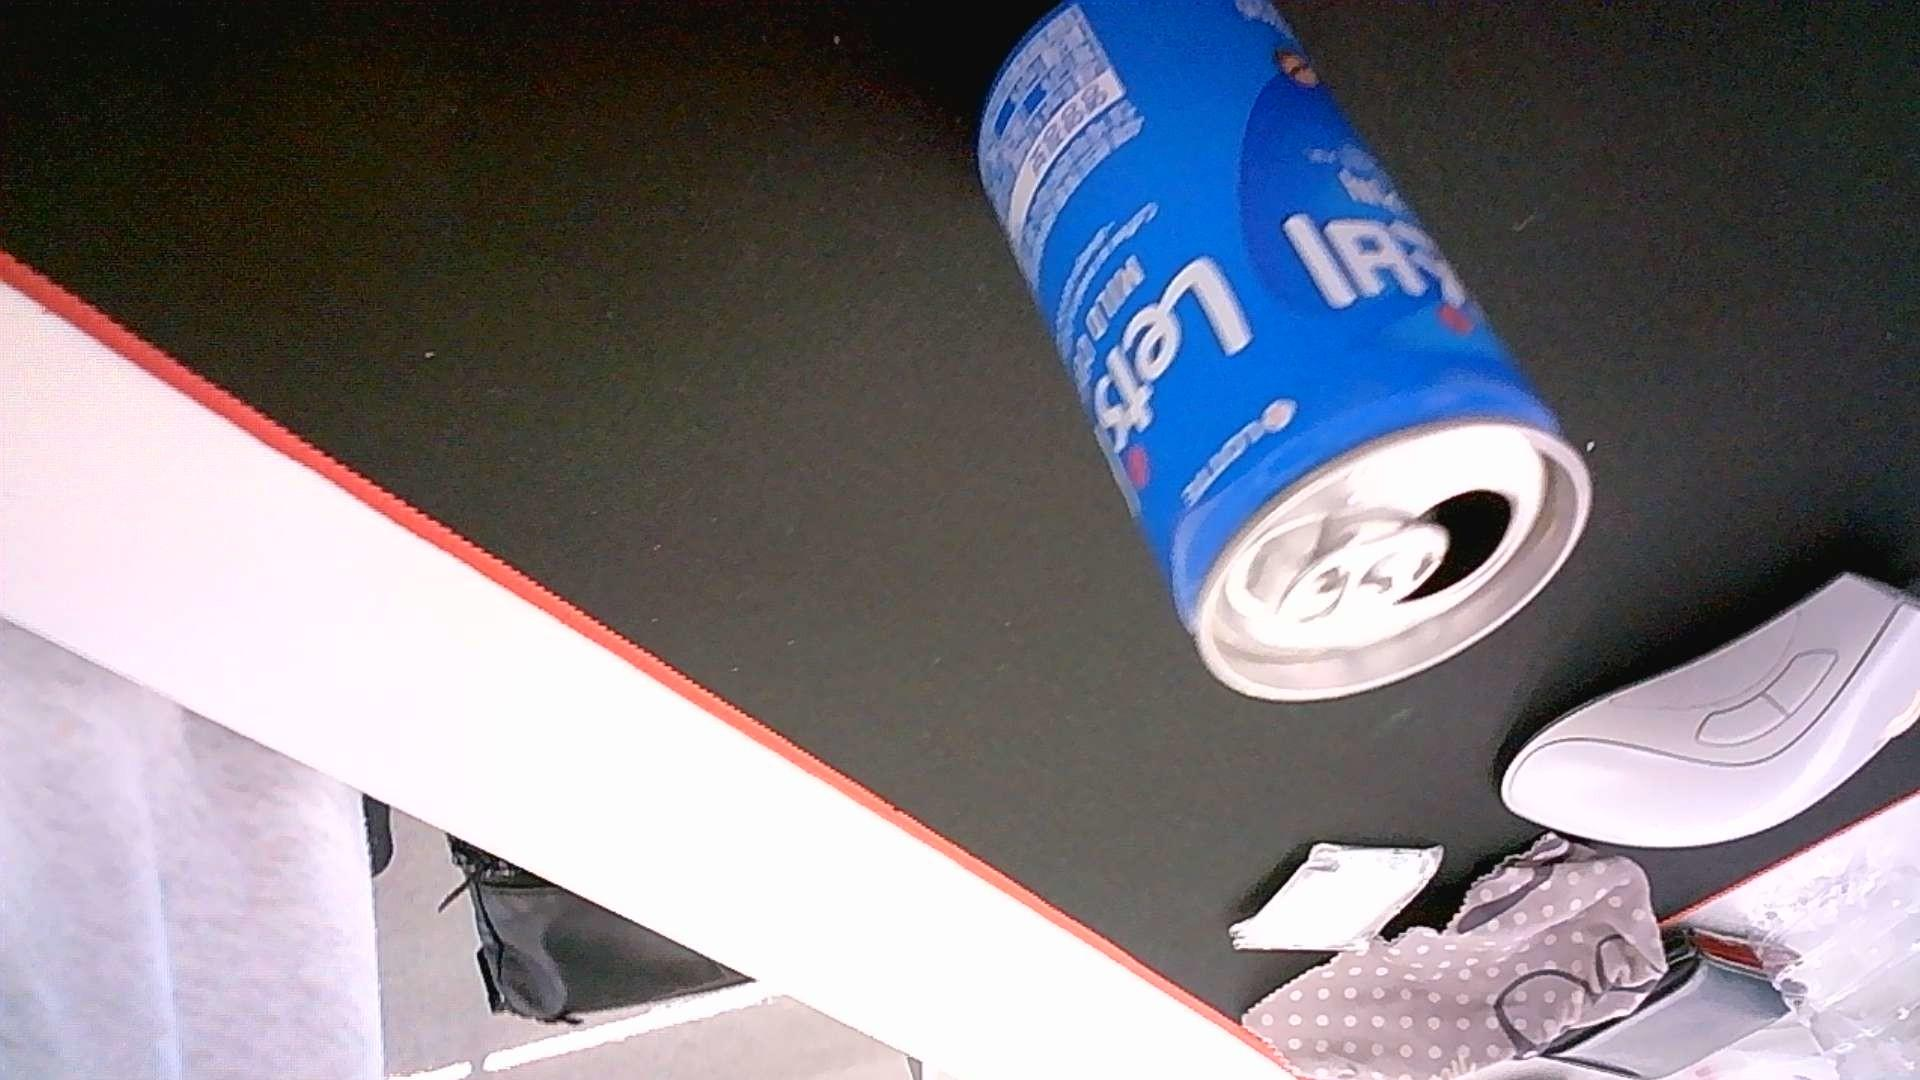letsbe: (975, 0, 1593, 703)
